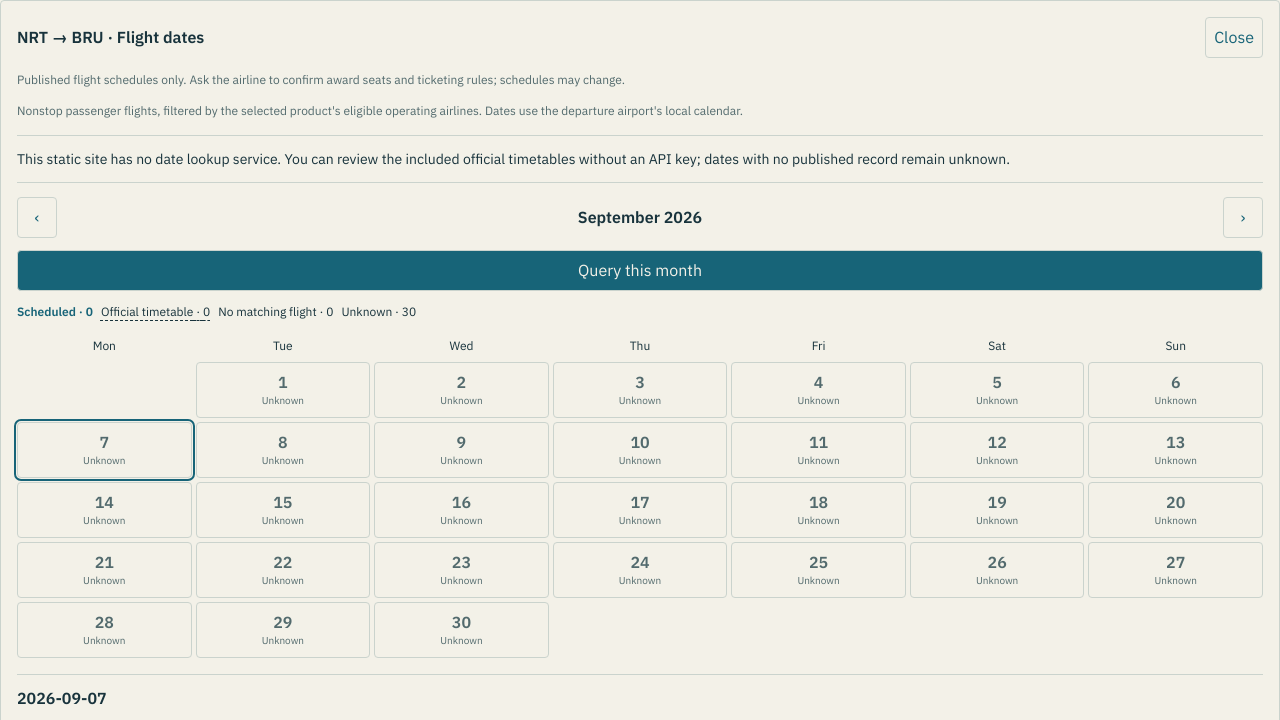
Test: expired source review cannot be renewed by pressing Query again
Click the button "Query this month" at coordinates (640, 271), box [17,250,1263,291]
(page scrolled)
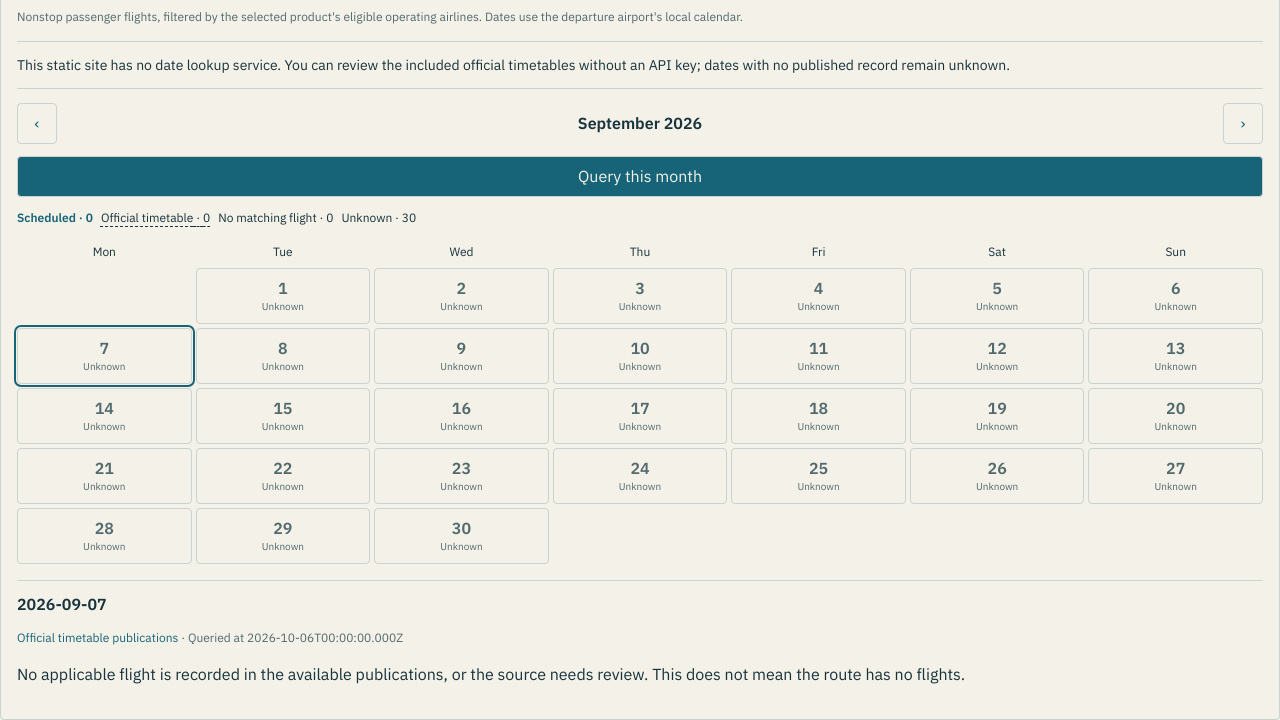
Result: the element with class "flight-dates-results" shows "source needs review" at [17,664,965,684]
